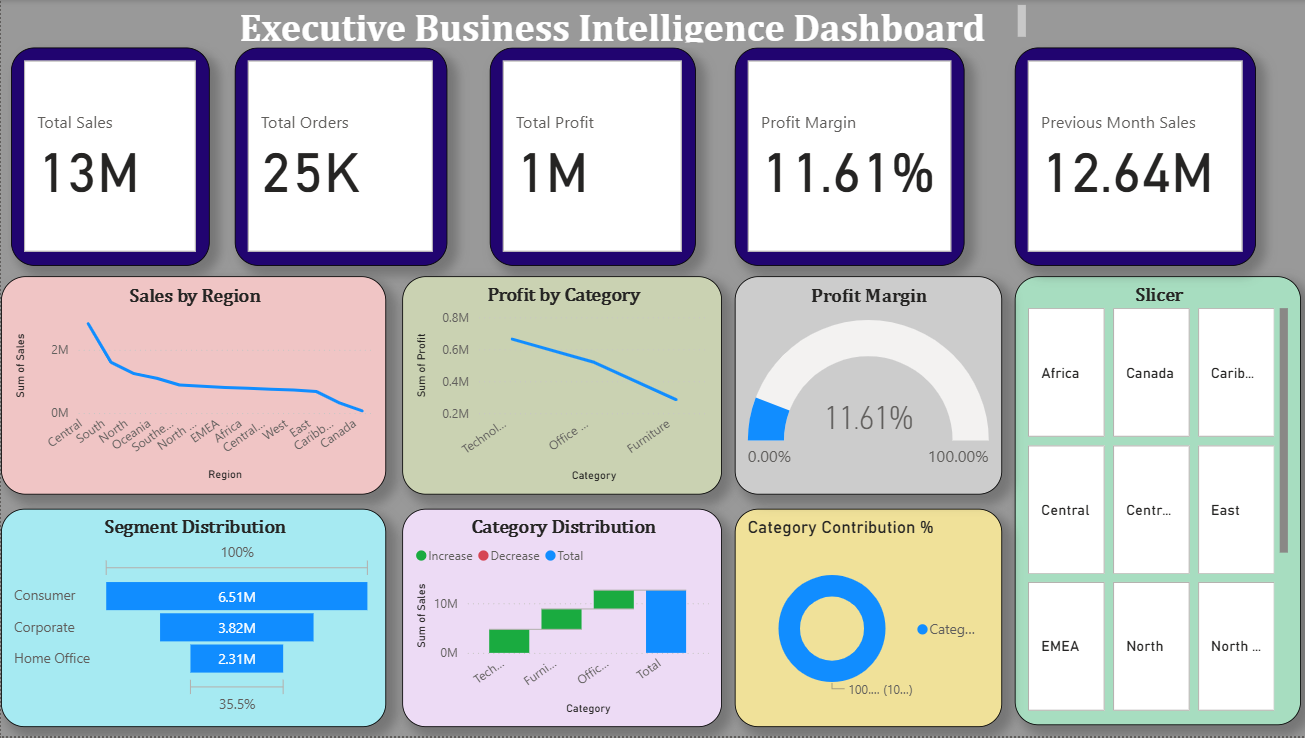

The page's visual inventory and layout, read from the dashboard file:
{"tool":"powerbi","page":{"name":"Page 1","canvas":[1280,720],"ordinal":0},"visuals":[{"type":"cardVisual","fields":{"Data":["Orders.Total Sales"]},"box":[9.8,46.5,194.4,214],"z":0},{"type":"cardVisual","fields":{"Data":["Orders.Total Orders"]},"box":[228.7,46.5,207.9,214],"z":1000},{"type":"cardVisual","fields":{"Data":["Orders.Total Profit"]},"box":[478.1,46.5,201.8,214],"z":2000},{"type":"cardVisual","fields":{"Data":["Orders.Profit Margin"]},"box":[717.8,46.5,225,214],"z":3000},{"type":"lineChart","title":"Sales by Region","fields":{"Y":["Sum(Orders.Sales)"],"Category":["Orders.Region"]},"box":[0,270.2,376.6,214],"z":4000},{"type":"lineChart","title":"Profit by Category","fields":{"Y":["Sum(Orders.Profit)"],"Category":["Orders.Category"]},"box":[392.5,270.2,313,214],"z":5000},{"type":"funnel","title":"Segment Distribution","fields":{"Category":["Orders.Segment"],"Y":["Sum(Orders.Sales)"]},"box":[0,497.7,376.6,214],"z":6000},{"type":"waterfallChart","title":"Category Distribution","fields":{"Category":["Products.Category"],"Y":["Sum(Orders.Sales)"]},"box":[392.5,497.7,313,214],"z":7000},{"type":"advancedSlicerVisual","title":"Slicer","fields":{"Values":["Orders.Region"]},"box":[991.7,270.2,280,439],"z":8000},{"type":"cardVisual","fields":{"Data":["Orders.Previous Month Sales"]},"box":[991.7,46.5,236,214],"z":9000},{"type":"donutChart","fields":{"Y":["Orders.Category Contribution %"]},"box":[717.8,497.7,261.7,214],"z":10000},{"type":"gauge","fields":{"Y":["Orders.Profit Margin"]},"box":[717.8,270.2,261.7,214],"z":10001},{"type":"textbox","box":[204.2,0,803.4,46.5],"z":10002}]}

Visuals, with their boxes in screenshot pixels (x1, y1, x2, y2), scaled from the page's 1280x720 canvas onto the 1305x738 screenshot:
cardVisual - Orders.Total Sales: 10:48:208:267
cardVisual - Orders.Total Orders: 233:48:445:267
cardVisual - Orders.Total Profit: 487:48:693:267
cardVisual - Orders.Profit Margin: 732:48:961:267
"Sales by Region" lineChart: 0:277:384:496
"Profit by Category" lineChart: 400:277:719:496
"Segment Distribution" funnel: 0:510:384:729
"Category Distribution" waterfallChart: 400:510:719:729
"Slicer" advancedSlicerVisual: 1011:277:1297:727
cardVisual - Orders.Previous Month Sales: 1011:48:1252:267
donutChart - Orders.Category Contribution %: 732:510:999:729
gauge - Orders.Profit Margin: 732:277:999:496
textbox: 208:0:1027:48
